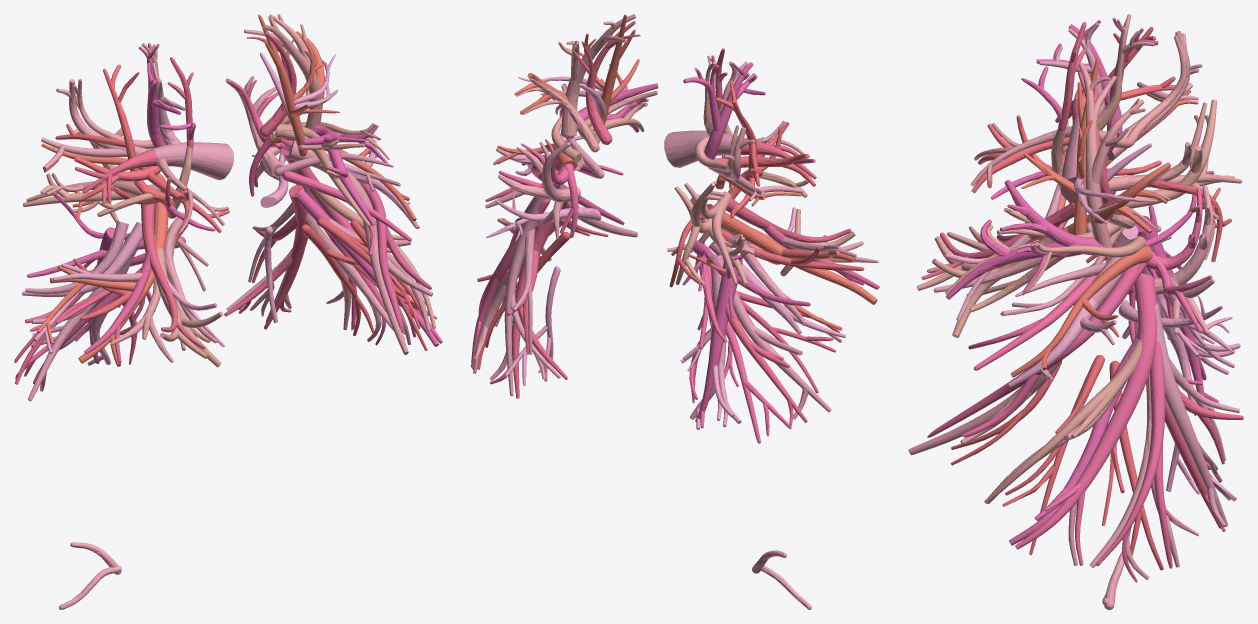
The model's file is polmoni.glb.
The picture shows the model from 3 angles, left to right: view 1: azimuth 30°, elevation 25°; view 2: azimuth 150°, elevation 25°; view 3: azimuth 270°, elevation 25°; orthographic projection. The views are drawn at different scales.
Visible parts, largest first — view 1: left posterior basal segmental bronchial tree, inferior lingular bronchial tree, right posterior segmental vein, right upper lobar artery, left anterior segmental artery, lateral segmental bronchial tree, inferior lingular artery, left apical segmental vein, right anterior segmental bronchial tree, left anterior segmental bronchial tree, left apical segmental bronchial tree, left lateral basal segmental bronchial tree (+42 smaller); view 2: left posterior basal segmental artery, lateral segmental bronchial tree, left posterior basal segmental bronchial tree, left superior segmental bronchial tree, right posterior basal segmental vein, right superior segmental bronchial tree, left apical segmental bronchial tree, right apical segmental bronchial tree, right lateral basal segmental bronchial tree, left posterior segmental vein, mediobasal branch of right posterior basal segmental artery, left superior segmental artery (+29 smaller); view 3: left anterior basal segmental artery, left lateral basal segmental artery, left anterior segmental bronchial tree, left posterior basal segmental artery, left apical segmental bronchial tree, inferior lingular artery, left medial basal segmental artery, left posterior segmental vein, left anterior segmental artery, left superior segmental bronchial tree, superior lingular artery, inferior lingular bronchial tree (+43 smaller).
Boxes of the visible parts, left/top/right/bottom form: left posterior basal segmental bronchial tree: left=224, top=185, right=307, bottom=329; inferior lingular bronchial tree: left=288, top=141, right=432, bottom=354; right posterior segmental vein: left=55, top=64, right=177, bottom=218; right upper lobar artery: left=151, top=142, right=233, bottom=180; left anterior segmental artery: left=271, top=122, right=389, bottom=226; lateral segmental bronchial tree: left=50, top=202, right=168, bottom=366; inferior lingular artery: left=280, top=138, right=431, bottom=331; left apical segmental vein: left=258, top=14, right=339, bottom=156; right anterior segmental bronchial tree: left=74, top=156, right=229, bottom=234; left anterior segmental bronchial tree: left=300, top=124, right=388, bottom=225; left apical segmental bronchial tree: left=244, top=14, right=322, bottom=129; left lateral basal segmental bronchial tree: left=305, top=213, right=405, bottom=341; left posterior basal segmental artery: left=490, top=197, right=560, bottom=396; lateral segmental bronchial tree: left=706, top=203, right=877, bottom=304; left posterior basal segmental bronchial tree: left=490, top=212, right=567, bottom=398; left superior segmental bronchial tree: left=485, top=141, right=580, bottom=238; right posterior basal segmental vein: left=689, top=266, right=791, bottom=443; right superior segmental bronchial tree: left=667, top=182, right=754, bottom=286; left apical segmental bronchial tree: left=558, top=14, right=635, bottom=136; right apical segmental bronchial tree: left=683, top=55, right=757, bottom=159; right lateral basal segmental bronchial tree: left=712, top=254, right=831, bottom=419; left posterior segmental vein: left=486, top=76, right=606, bottom=241; mediobasal branch of right posterior basal segmental artery: left=695, top=255, right=742, bottom=428; left superior segmental artery: left=485, top=139, right=578, bottom=237; left anterior basal segmental artery: left=1015, top=276, right=1157, bottom=565; left lateral basal segmental artery: left=1096, top=341, right=1176, bottom=582; left anterior segmental bronchial tree: left=945, top=179, right=1106, bottom=299; left posterior basal segmental artery: left=1155, top=303, right=1239, bottom=526; left apical segmental bronchial tree: left=1078, top=62, right=1145, bottom=247; inferior lingular artery: left=927, top=262, right=1146, bottom=437; left medial basal segmental artery: left=984, top=339, right=1141, bottom=503; left posterior segmental vein: left=1074, top=143, right=1232, bottom=352; left anterior segmental artery: left=945, top=195, right=1146, bottom=294; left superior segmental bronchial tree: left=1154, top=185, right=1215, bottom=334; superior lingular artery: left=1010, top=245, right=1152, bottom=377; inferior lingular bronchial tree: left=908, top=257, right=1122, bottom=454.
Size of the model in its own units: 242 by 341 by 158.
